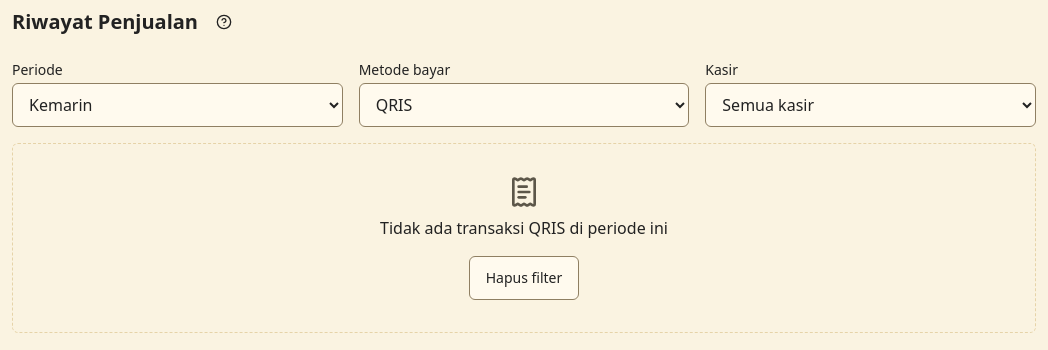
SaleHistoryPage › keadaan kosong saat difilter menyebut metodenya; Hapus filter menghapus metode dan periode tetap
This screenshot has width=1048, height=350.
Expected: the text "Tidak ada transaksi QRIS di periode ini" is shown, [380,216,668,240]
Click the button "Hapus filter": (524, 278) [469,256,579,300]
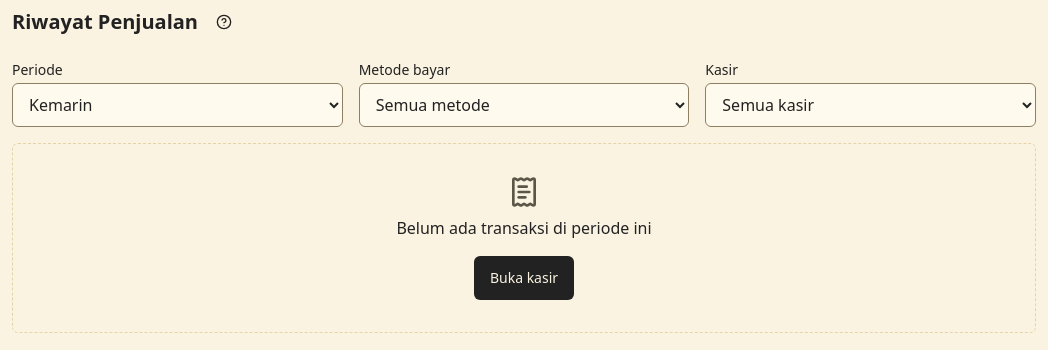
Expected: the dropdown labelled "Periode" shows "Kemarin", [12,83,343,127]
Expected: the text "Belum ada transaksi di periode ini" is shown, [396,216,652,240]
Expected: the link "Buka kasir" is shown, [474,256,574,300]
